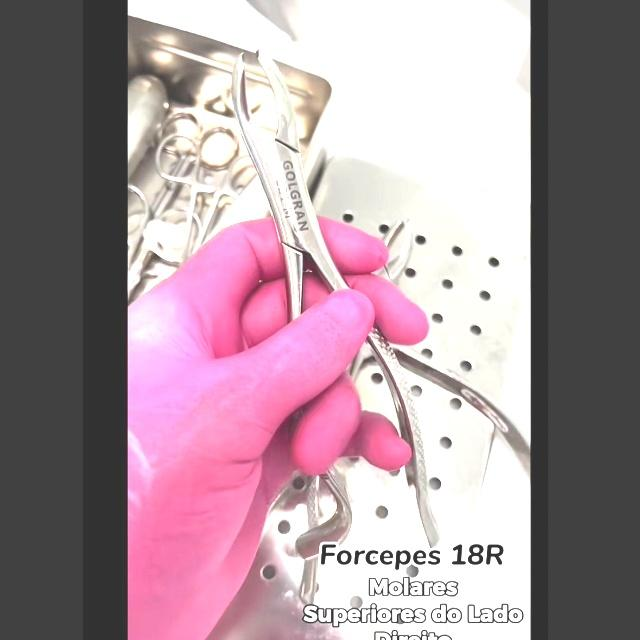forceps: (234, 51, 348, 320), (369, 328, 440, 551), (307, 475, 348, 531), (299, 558, 317, 608)
